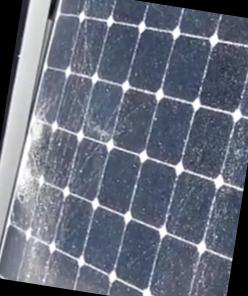Crack: (20, 98, 52, 153), (14, 154, 42, 203)
